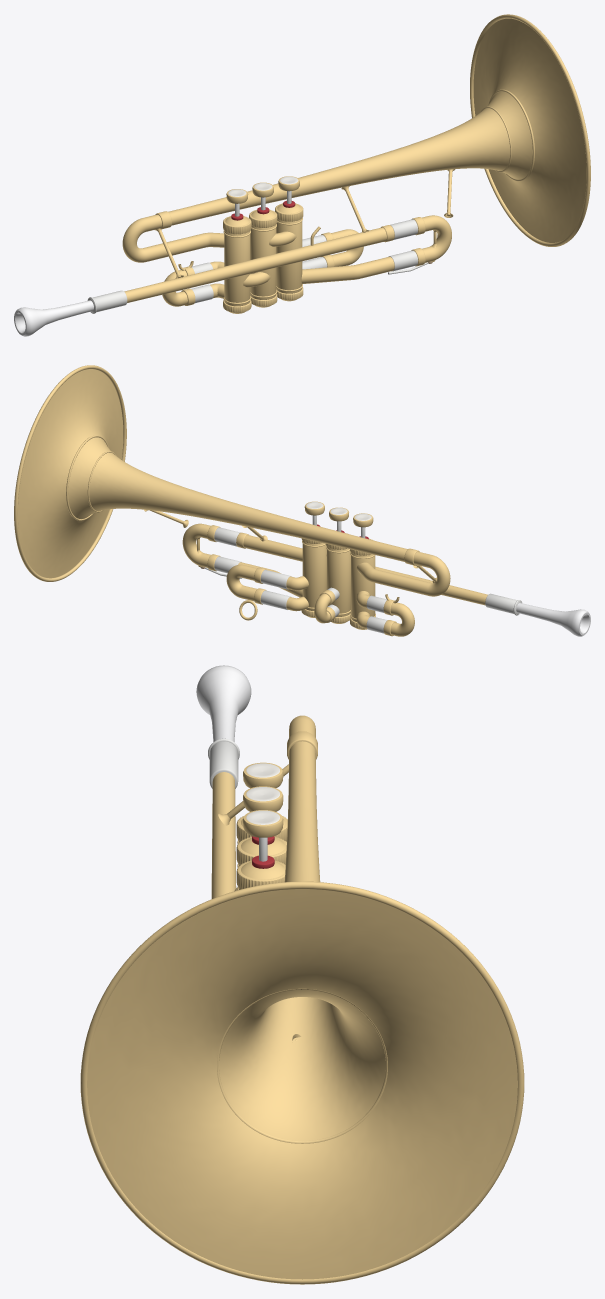
File: mellophone.glb
3 views of the same model, one above another, from view 1: azimuth 30°, elevation 25°; view 2: azimuth 150°, elevation 25°; view 3: azimuth 270°, elevation 25° (orthographic). The views are drawn at different scales.
Parts seen in each view (by area): view 1: Body; view 2: Body; view 3: Body, valve3, valve1, valve2.
Boxes of the visible parts, x1,y1,x2,y2 form: Body: (14,14,590,336); Body: (14,365,590,636); Body: (80,665,524,1284); valve3: (243,810,283,861); valve1: (243,762,283,788); valve2: (243,786,283,811).
Bounding box in the file's own units: 0.6657 × 0.2576 × 0.2576.
